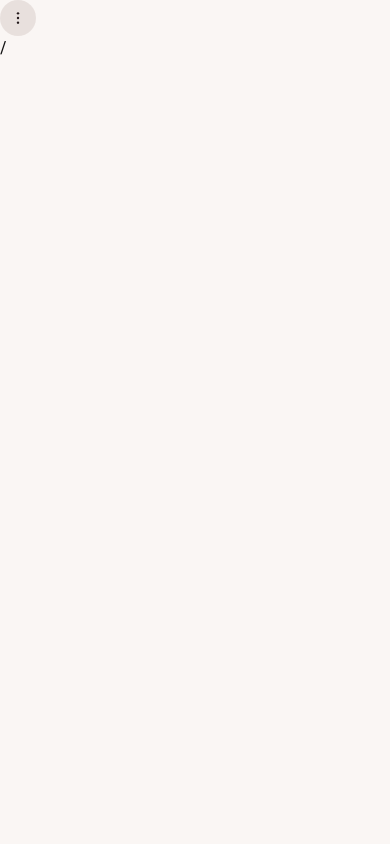
Scenario: <TrackMenu /> — 1.3 podcast episodes › a song still goes to its album
This screenshot has width=390, height=844.
Click the button named "More options".
click(18, 18)  # box left=0, top=0, right=36, bottom=36
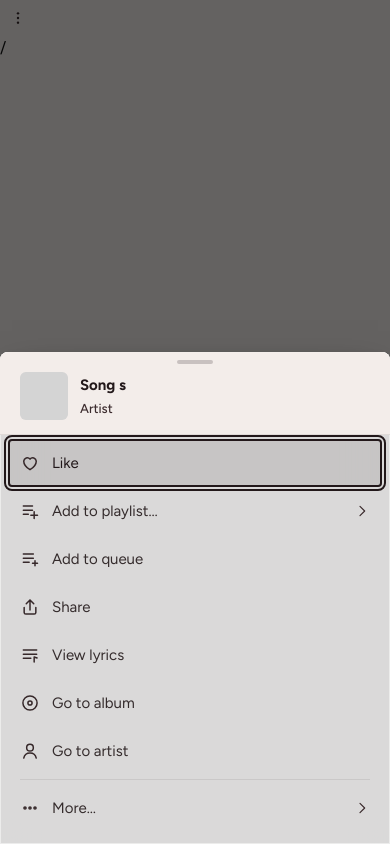
Click the menu item "Go to album".
click(93, 703)  # box left=8, top=679, right=382, bottom=727
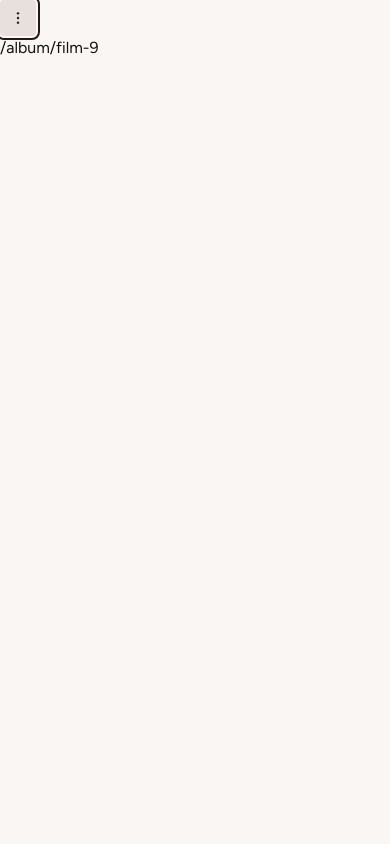
Expected: the text with test id "where" reads "/album/film-9", left=0, top=38, right=98, bottom=57
